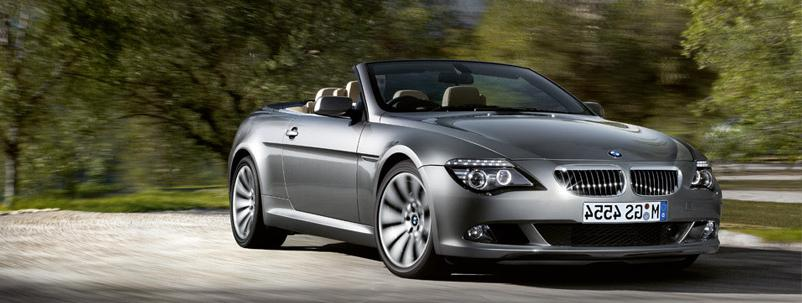Car: (202, 46, 746, 295)
